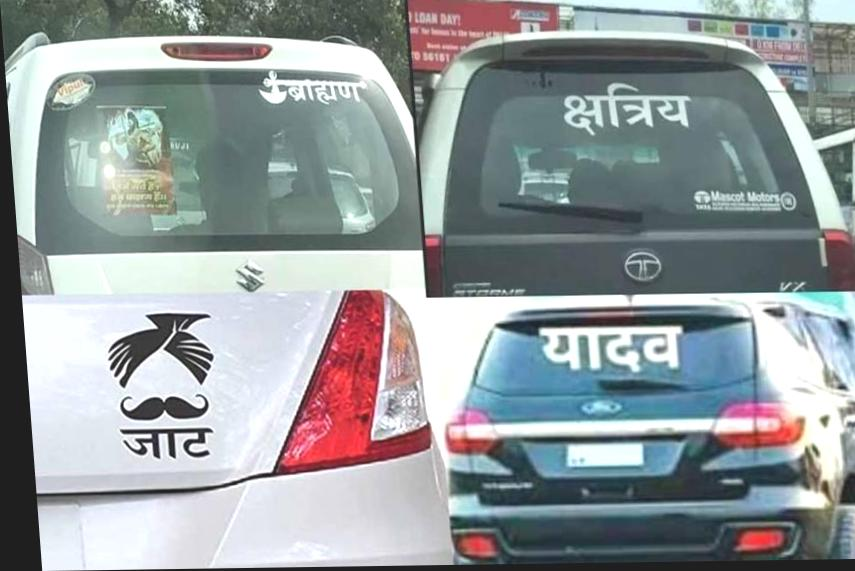License_Plate: (558, 435, 654, 472)
